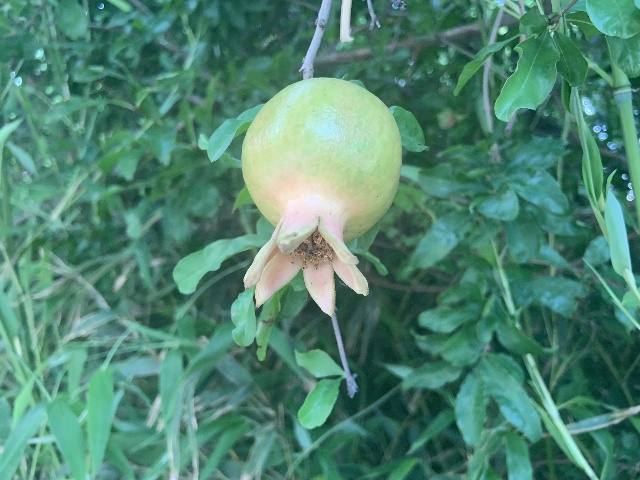mid-growth: (240, 76, 403, 316)
